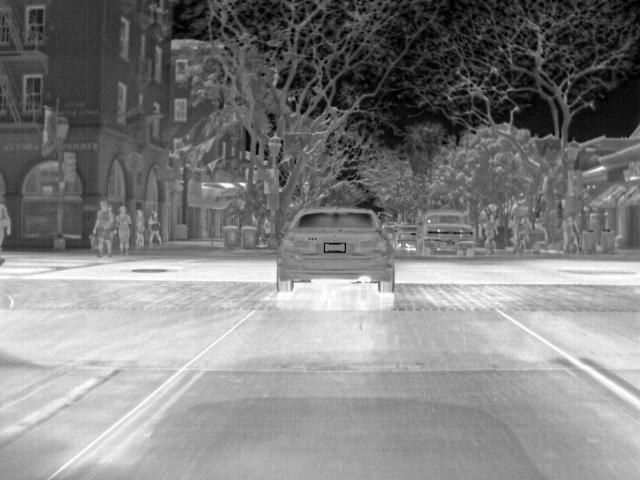car: (273, 204, 396, 294), (416, 210, 476, 258), (398, 233, 419, 254)
person: (91, 201, 114, 256), (114, 205, 132, 254), (146, 209, 165, 249), (131, 207, 146, 248), (1, 200, 14, 244)
